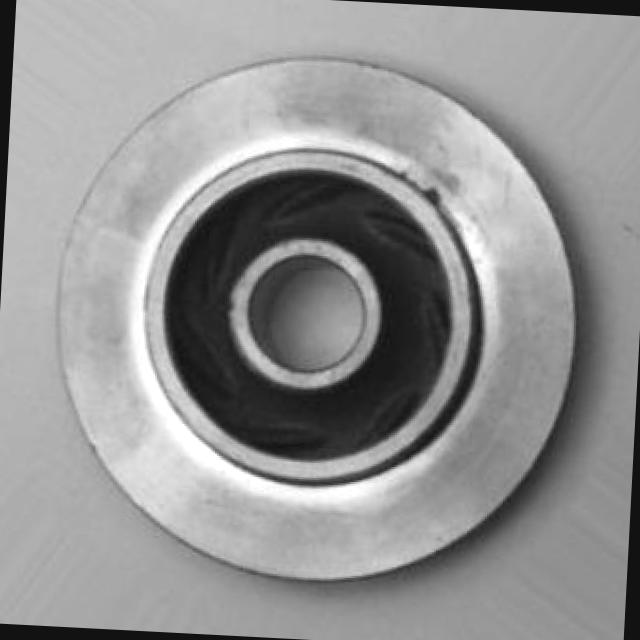Defect: (426, 182, 448, 210)
